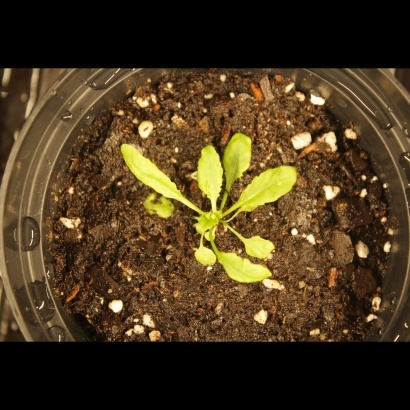leaf: (114, 137, 185, 202), (240, 163, 304, 210), (211, 250, 278, 288), (194, 139, 223, 208), (222, 126, 252, 189), (240, 229, 279, 263), (188, 207, 228, 237), (193, 243, 218, 269)
